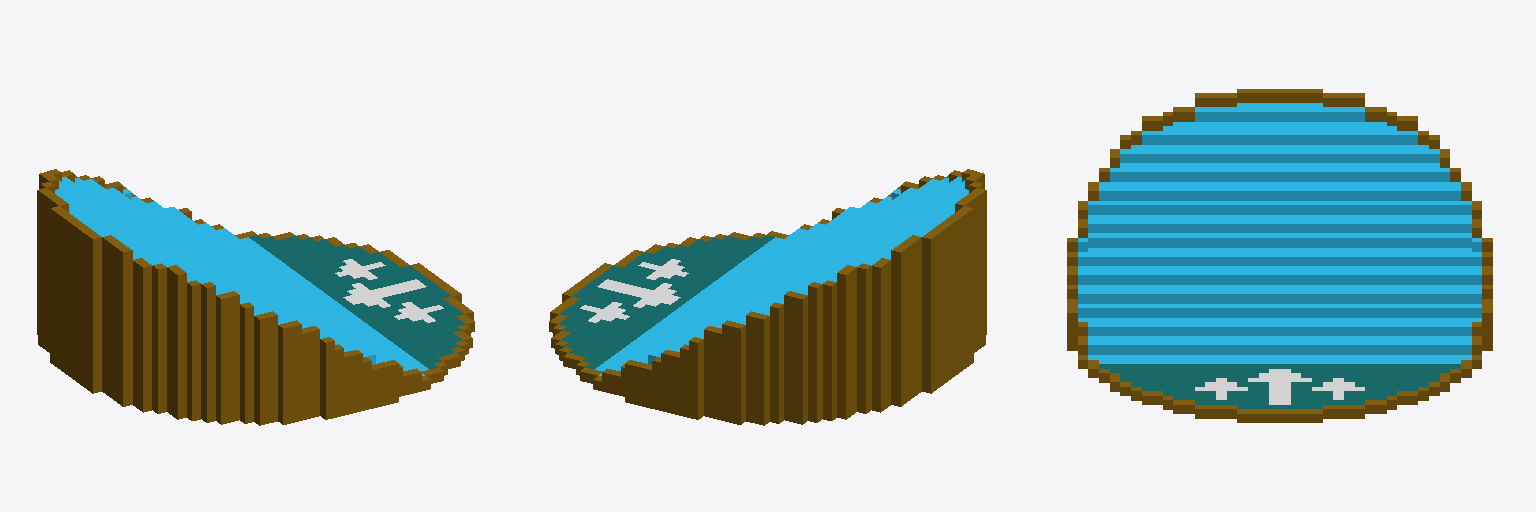
The picture shows the model from 3 angles: view 1: azimuth 30°, elevation 25°; view 2: azimuth 150°, elevation 25°; view 3: azimuth 270°, elevation 25°; orthographic projection.
Visible parts, largest first — view 1: object 1; view 2: object 1; view 3: object 1.
Part boxes in pixels (bbox=[...]): object 1: bbox=[37, 169, 474, 425]; object 1: bbox=[549, 169, 986, 425]; object 1: bbox=[1067, 89, 1492, 422].
Bounding box in the file's own units: 4 × 1.6 × 4.
1 materials, 1 textured.